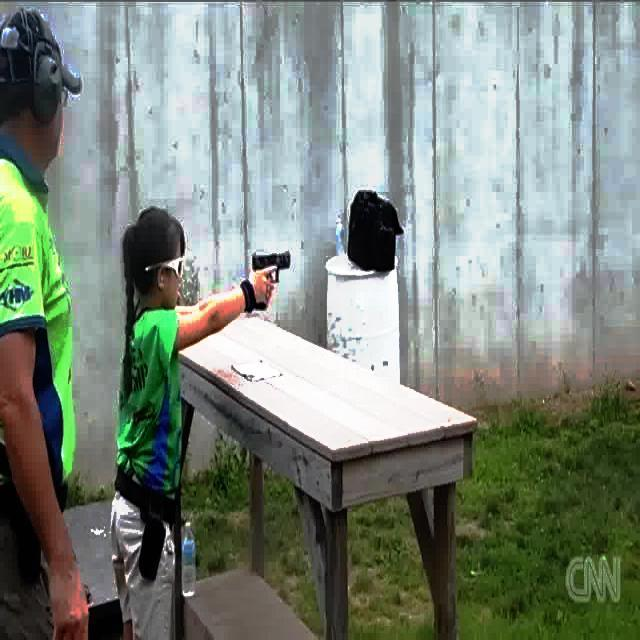Gun: (246, 239, 295, 293)
